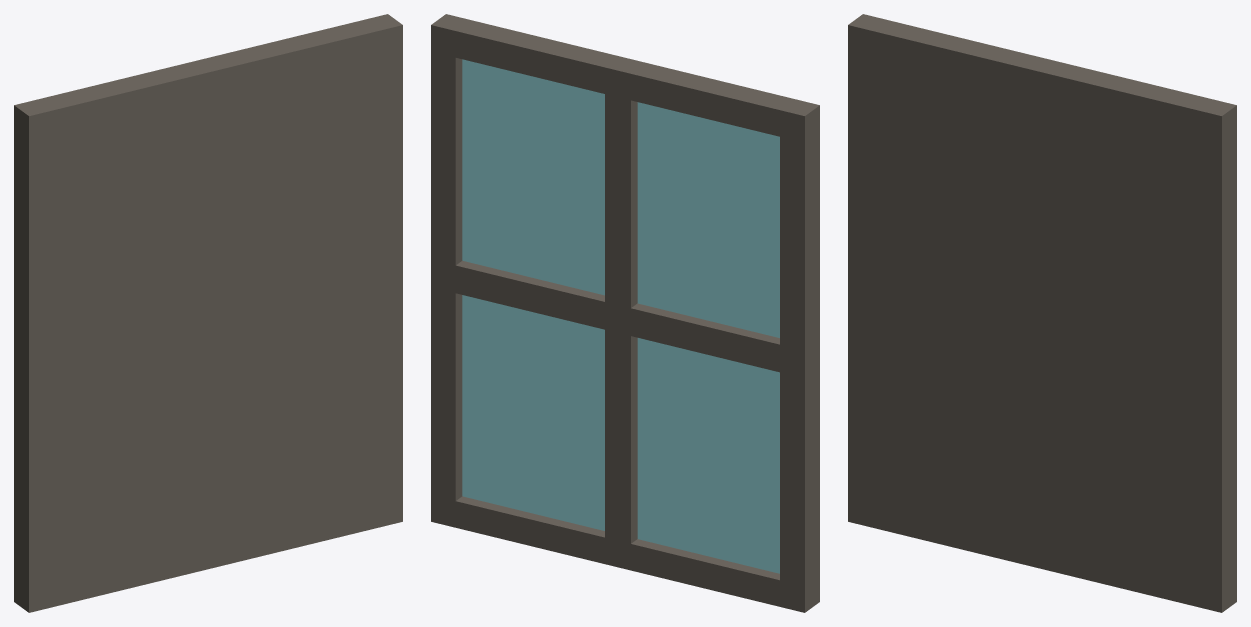
Rendered from Window_000.glb.
3 renders of one model, left to right at view 1: azimuth 30°, elevation 25°; view 2: azimuth 150°, elevation 25°; view 3: azimuth 330°, elevation 25°, orthographic.
Parts seen in each view (by area): view 1: Window; view 2: Window; view 3: Window.
Part boxes in pixels (x1,y1,x2,y2): Window: [14, 14, 402, 612]; Window: [431, 14, 819, 612]; Window: [848, 14, 1236, 612].
Size of the model in its own units: 1.03 by 1.31 by 0.0721.
